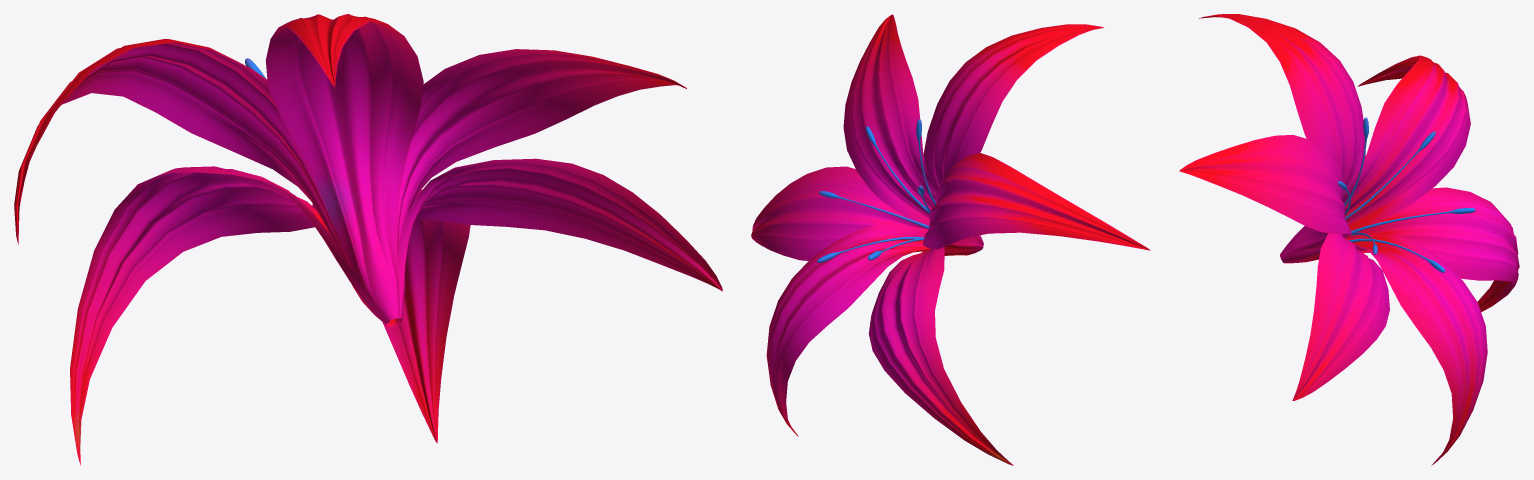
The model's file is lily.glb.
3 views of the same model, side by side, from view 1: azimuth 30°, elevation 25°; view 2: azimuth 150°, elevation 25°; view 3: azimuth 270°, elevation 25° (orthographic). The views are drawn at different scales.
Visible parts, largest first — view 1: Cone009_Material #26_0; view 2: Cone009_Material #26_0; view 3: Cone009_Material #26_0.
Boxes of the visible parts, x1,y1,x2,y2 form: Cone009_Material #26_0: (14,14,722,465); Cone009_Material #26_0: (751,14,1150,465); Cone009_Material #26_0: (1179,14,1519,465).
Size of the model in its own units: 0.5 by 0.4185 by 0.3502.
1 material, 1 textured.
